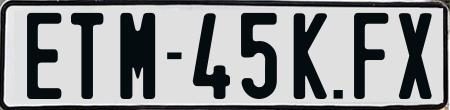4: (193, 13, 233, 99)
5: (241, 13, 280, 103)
E: (25, 12, 62, 100)
F: (354, 13, 394, 101)
K: (292, 12, 327, 101)
M: (119, 12, 156, 101)
T: (71, 13, 108, 102)
X: (398, 11, 431, 102)
